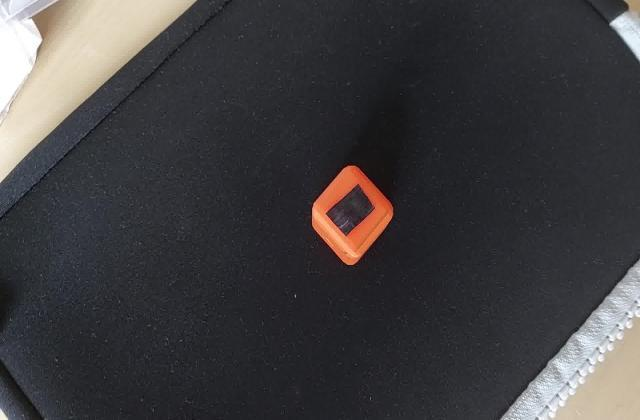black: (318, 184, 382, 240)
sticker: (310, 162, 397, 270)
